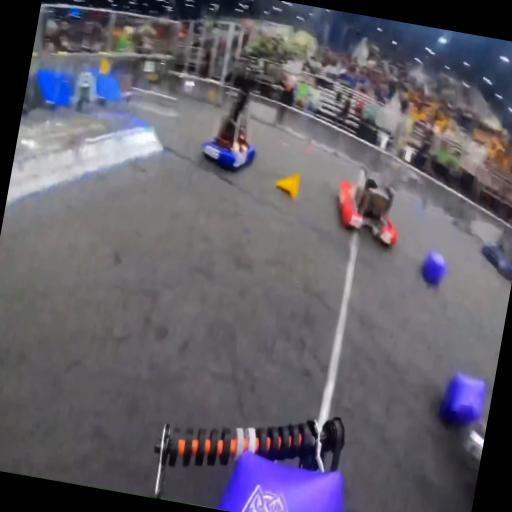robot: (198, 61, 270, 177), (330, 166, 408, 250), (477, 221, 512, 281)
